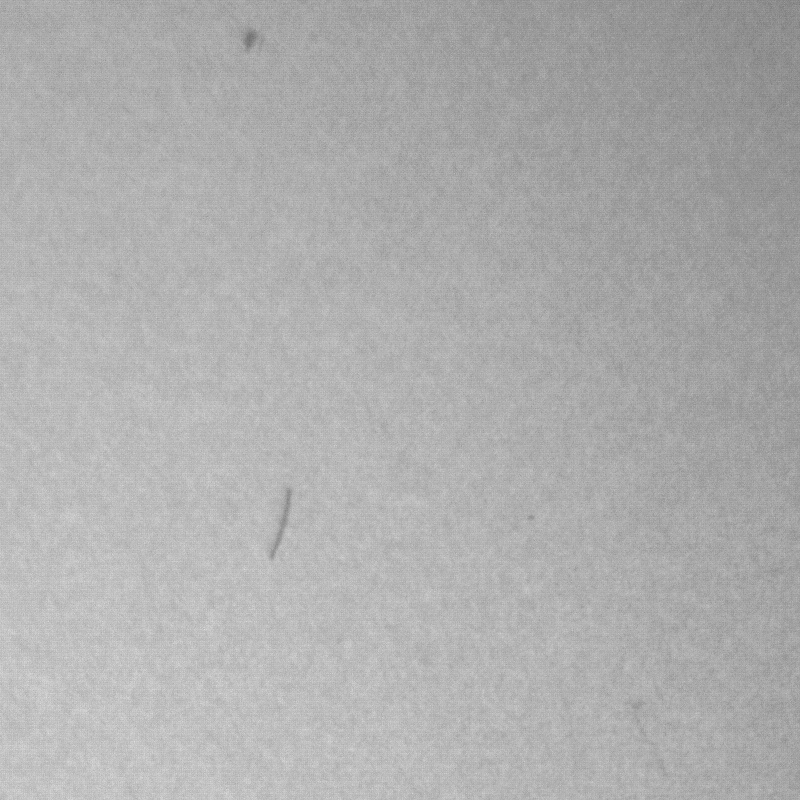defect: (635, 703, 670, 779), (272, 490, 289, 560), (245, 28, 267, 57)
